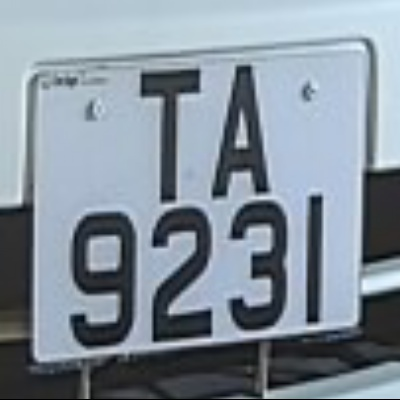1: (290, 177, 341, 338)
2: (138, 200, 231, 347)
3: (214, 195, 307, 335)
9: (60, 198, 153, 356)
A: (207, 50, 283, 204)
T: (119, 57, 214, 211)
